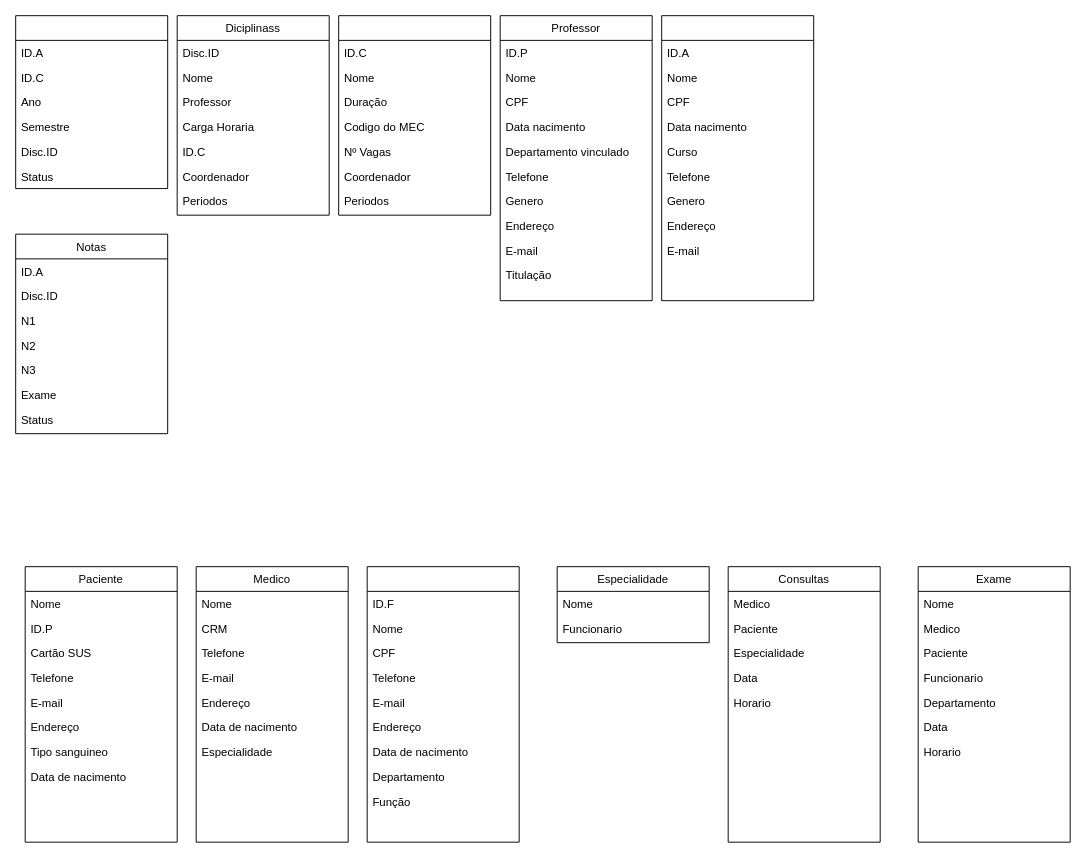
The diagram is 1086 pixels wide and 858 high, and some of its shapes have lost their labels. The box of each missing label's shape, as (x1, y1, x2, y2) in pixels:
Aluno: (661, 15, 814, 301)
Cursos: (338, 15, 491, 215)
Funcionarios: (366, 566, 519, 842)
Matricolas: (15, 15, 168, 189)
